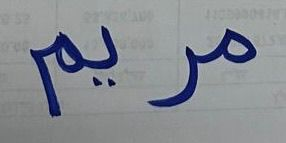meem: (24, 17, 83, 117), (206, 21, 261, 70)
reh: (139, 37, 204, 111)
yeh: (84, 21, 127, 95)
